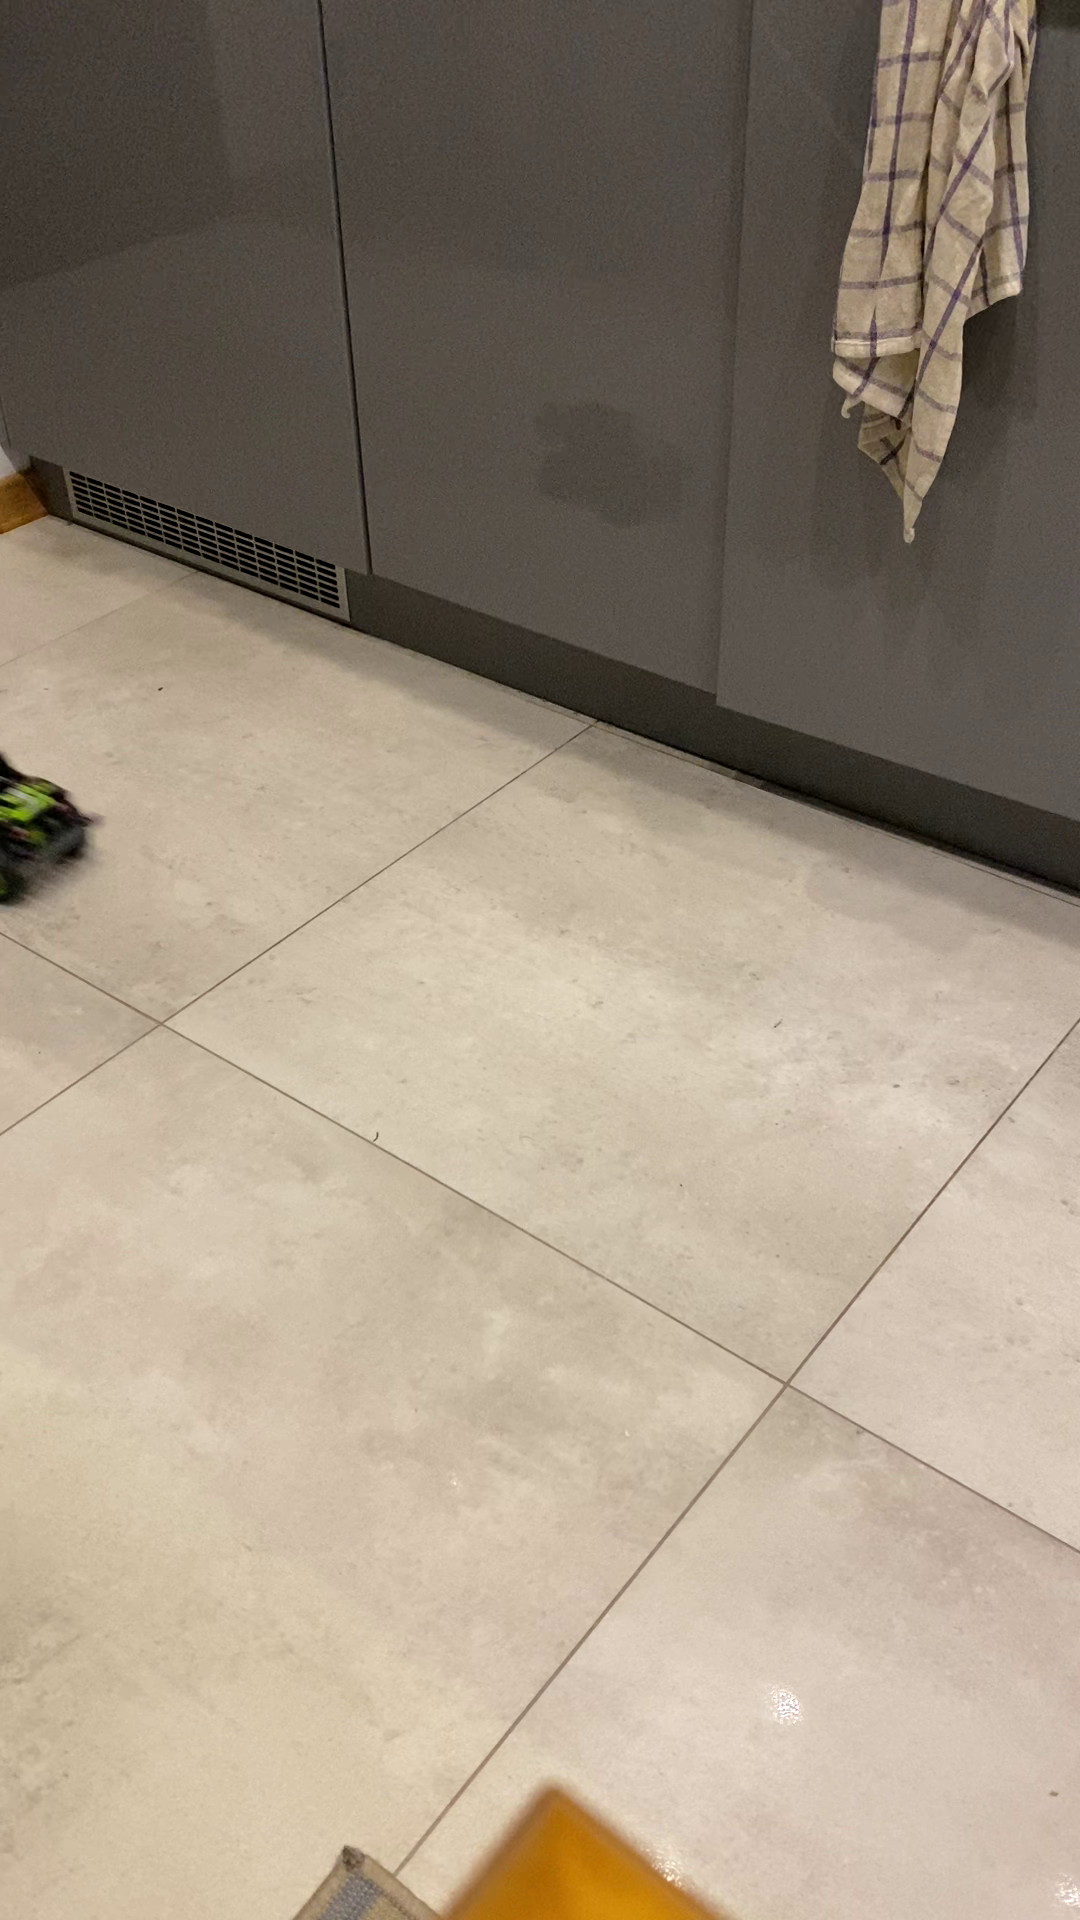car: (1, 756, 88, 916)
